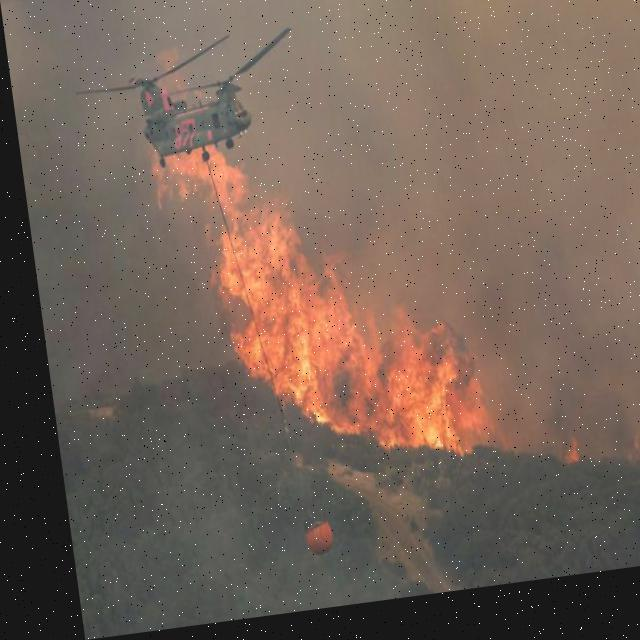Fire: (139, 118, 494, 504), (616, 440, 639, 495), (546, 446, 570, 481)
